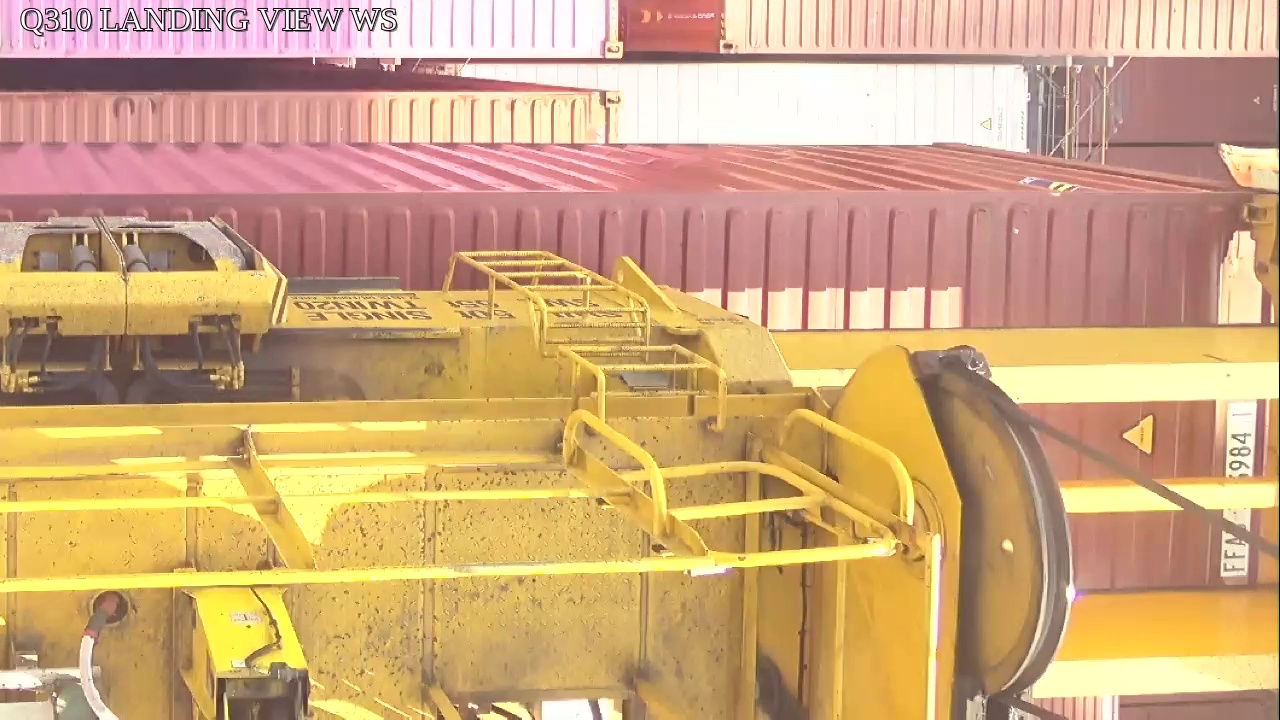right: (833, 343, 1076, 720)
